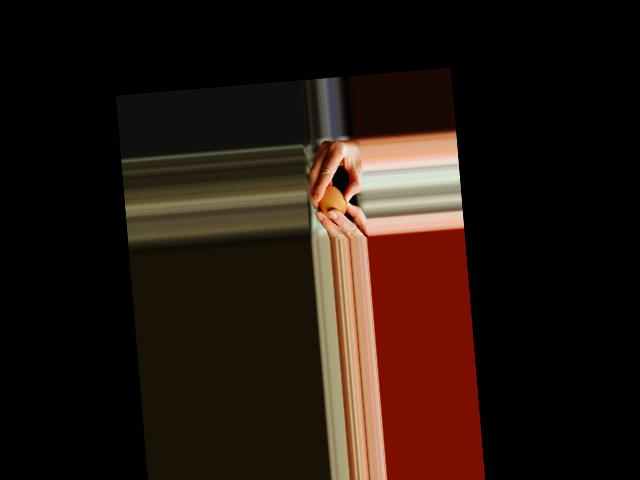egg: (316, 184, 347, 221)
